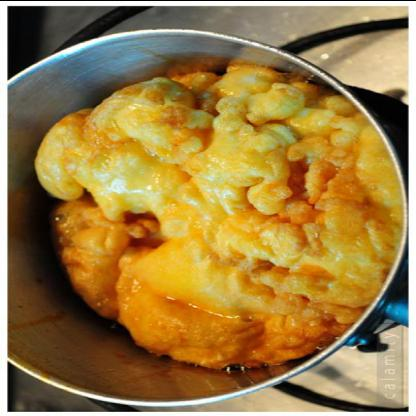Omelette: (28, 66, 390, 361)
